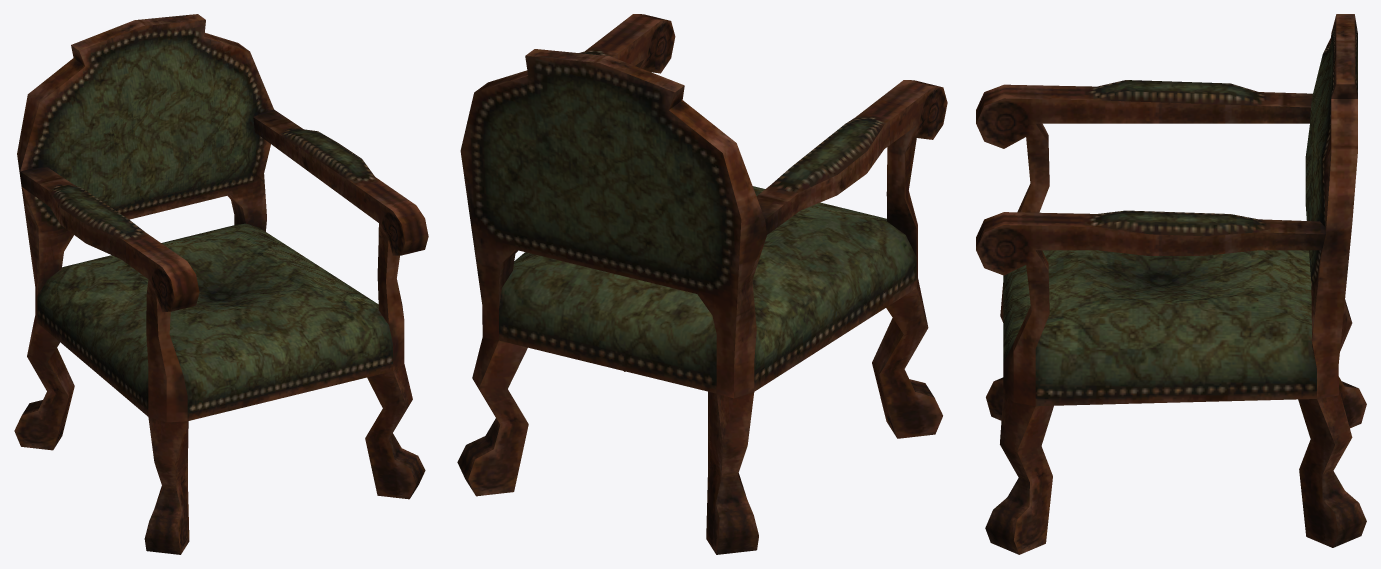
Rendered from armchair.dae.
3 renders of one model, left to right at view 1: azimuth 30°, elevation 25°; view 2: azimuth 150°, elevation 25°; view 3: azimuth 270°, elevation 25°, orthographic. The views are drawn at different scales.
Visible parts, largest first — view 1: polySurface2; view 2: polySurface2; view 3: polySurface2.
Part boxes in pixels (bbox=[...]): polySurface2: bbox=[14, 14, 428, 554]; polySurface2: bbox=[457, 14, 947, 554]; polySurface2: bbox=[976, 14, 1366, 554].
Size of the model in its own units: 0.8843 by 1.17 by 0.9415.
